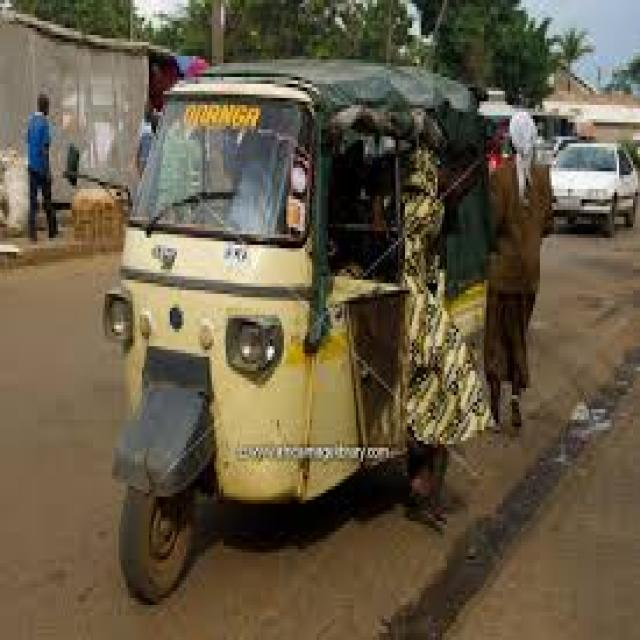tuktuk: (49, 12, 562, 621)
